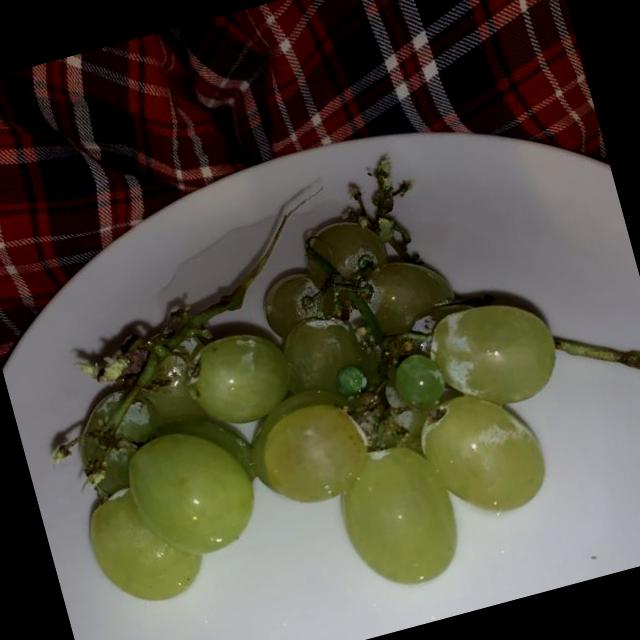Grapes: (5, 147, 627, 640)
